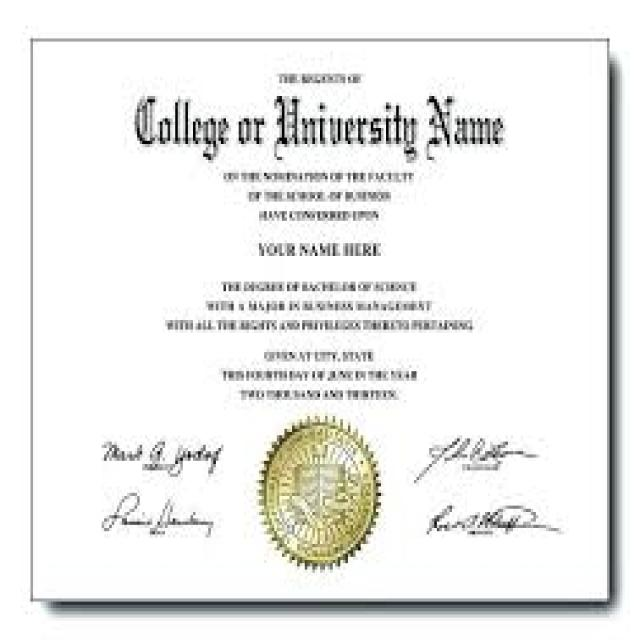signature: (411, 439, 574, 544)
stamp: (256, 417, 384, 576)
